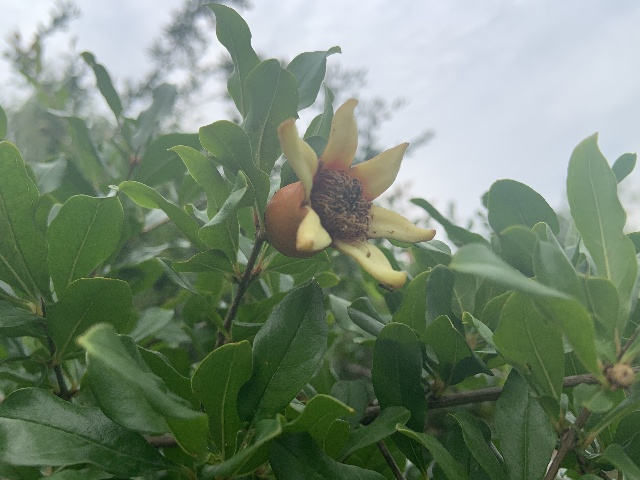early-fruit: (262, 98, 436, 289)
